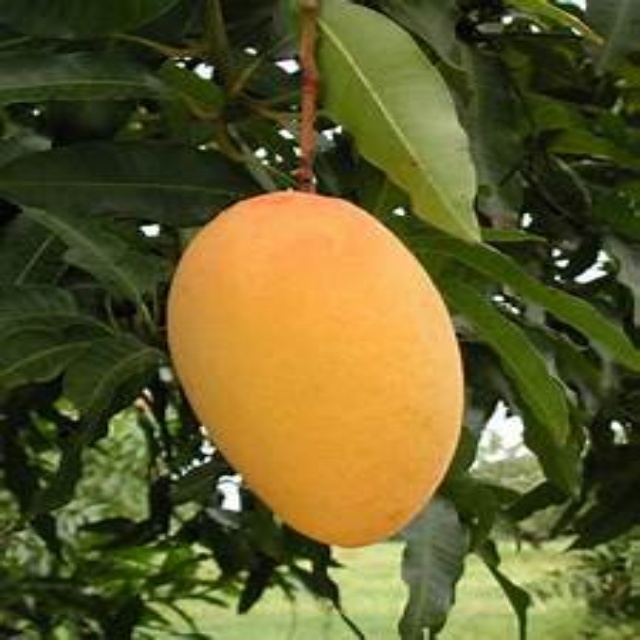mango: (164, 186, 468, 555)
